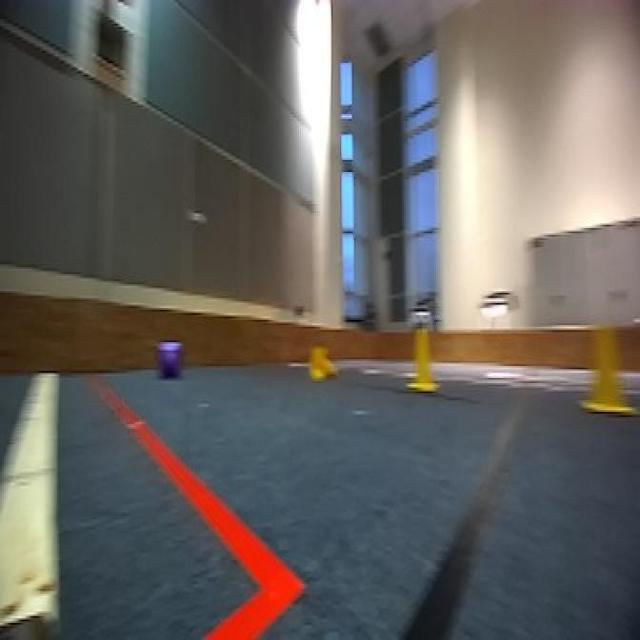frc_cone: (577, 328, 634, 412), (406, 318, 439, 395), (308, 344, 341, 381)
frc_cube: (158, 339, 183, 378)
